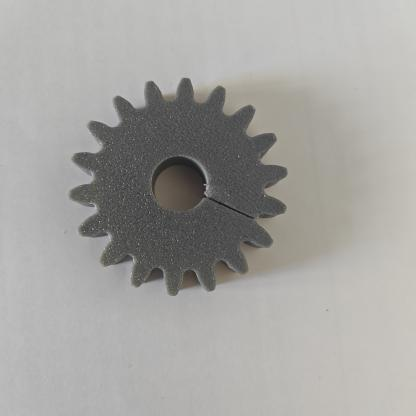defect: (187, 177, 287, 256)
gear: (61, 69, 311, 320)
